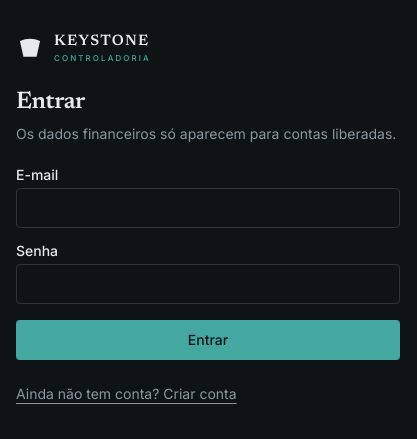
Test: acesso ao app › login com senha errada mostra a mensagem em português
Type "a@b.com" into the field labelled "E-mail" at (208, 208), box [16,188,400,228]
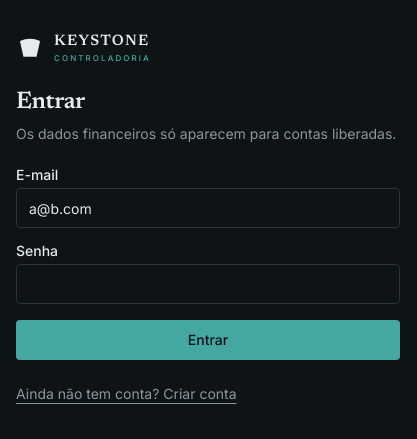
Type "errada" into the password field labelled "Senha" at (208, 284), box [16,264,400,304]
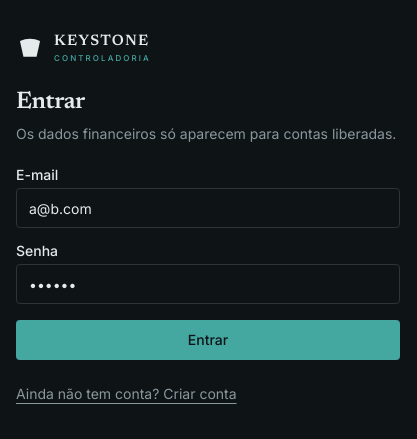
Click the button "Entrar" at (208, 340), box [16,320,400,360]
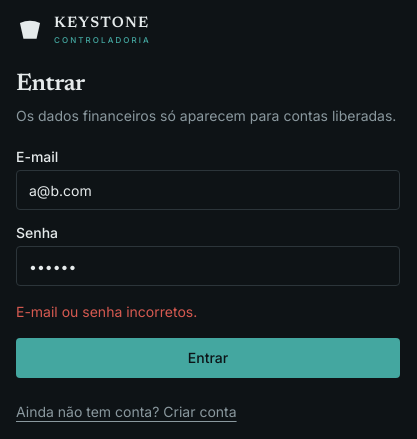
Check: the message reads "E-mail ou senha incorretos.", box [16,303,197,320]
